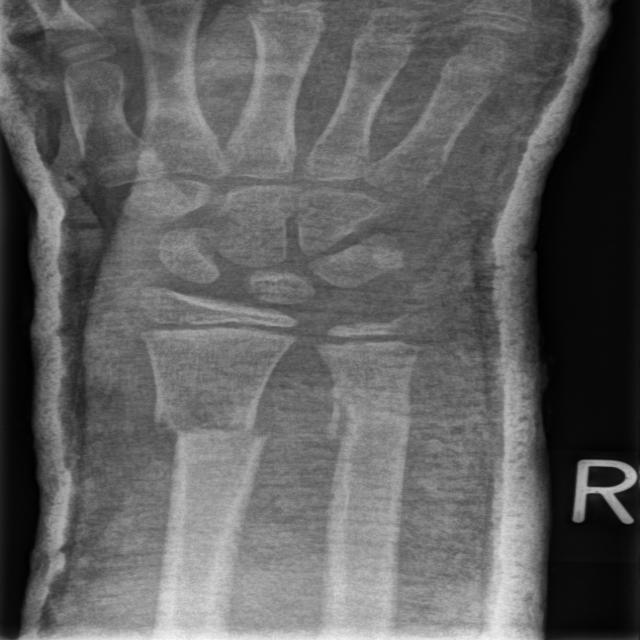radius fracture: (126, 378, 304, 520)
ulna fracture: (308, 382, 427, 507)
